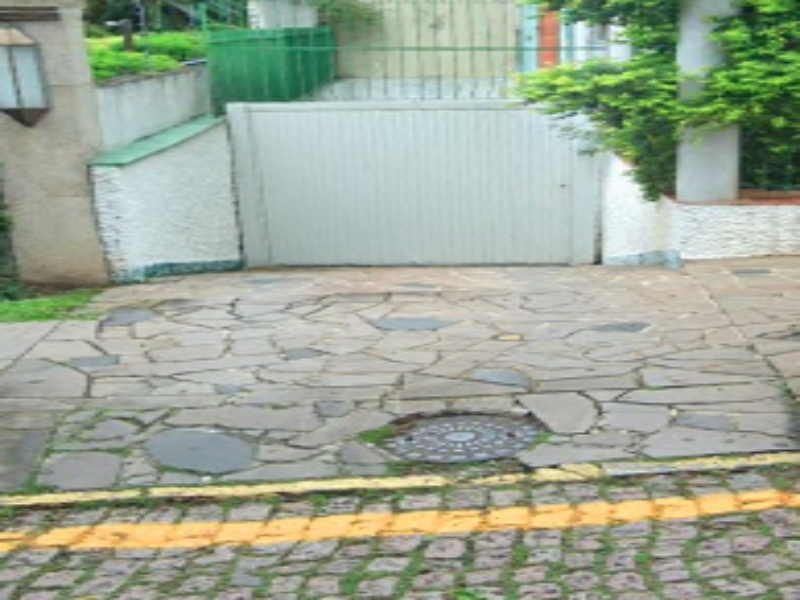g85: (3, 446, 796, 548)
